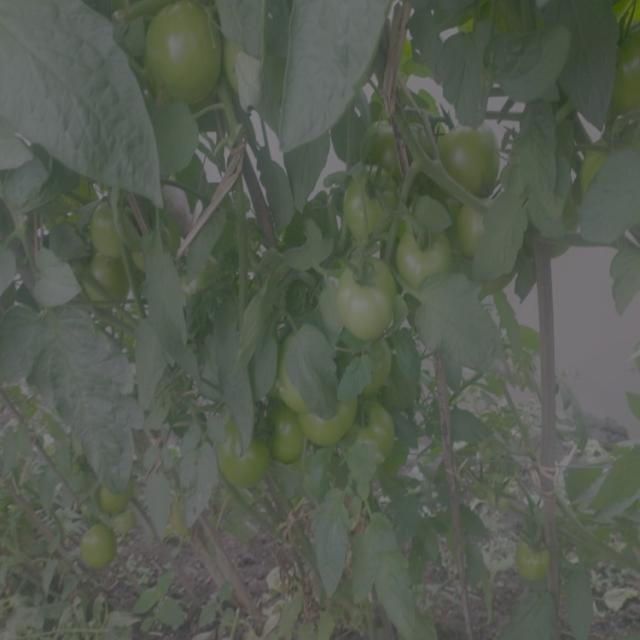tomato: (137, 7, 222, 99), (336, 255, 395, 338), (582, 122, 640, 198), (436, 119, 498, 188), (401, 220, 451, 293), (345, 171, 395, 239), (219, 429, 266, 498), (301, 375, 347, 444), (354, 403, 400, 466), (94, 198, 145, 251), (610, 30, 640, 114), (84, 256, 135, 301), (458, 200, 504, 246), (368, 121, 414, 167), (267, 405, 298, 471), (521, 535, 557, 582), (80, 525, 119, 567), (367, 340, 399, 391), (100, 479, 133, 515), (490, 478, 518, 510)
